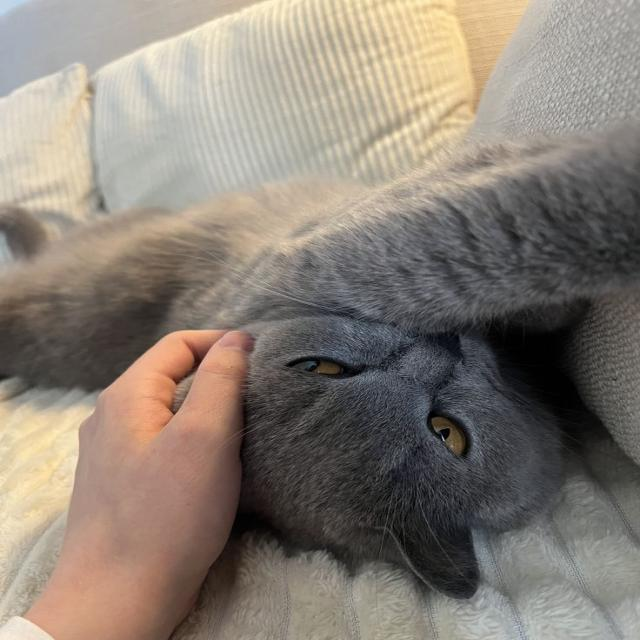british shorthair: (0, 120, 639, 598)
